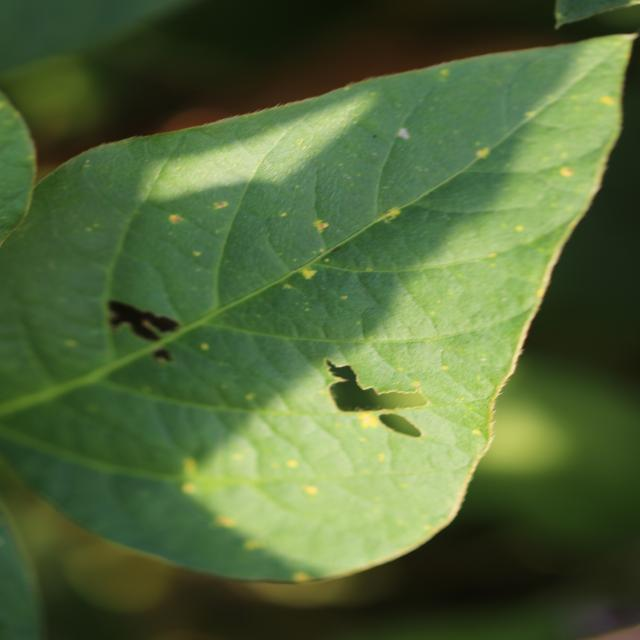Soybean: (0, 30, 640, 640)
downey_mildew: (132, 170, 332, 280), (215, 444, 380, 538), (491, 268, 554, 449), (405, 354, 507, 442), (177, 454, 285, 520), (431, 273, 521, 326), (378, 428, 473, 478), (215, 100, 291, 126), (358, 413, 379, 429), (183, 458, 197, 475), (385, 207, 401, 219), (598, 95, 615, 106), (476, 148, 491, 159), (181, 482, 196, 493), (169, 214, 184, 224), (558, 167, 573, 177), (397, 128, 410, 139), (555, 12, 566, 23), (213, 201, 228, 209), (286, 459, 299, 468), (64, 339, 77, 347), (524, 110, 536, 118), (232, 453, 244, 461), (86, 404, 98, 412), (245, 392, 255, 401), (439, 69, 450, 77), (377, 453, 386, 462), (514, 225, 525, 232), (536, 289, 544, 297), (200, 343, 209, 350), (560, 151, 569, 158), (344, 173, 354, 179), (192, 251, 201, 257), (412, 381, 420, 387), (279, 212, 288, 217), (91, 223, 100, 228), (1, 215, 8, 221), (441, 365, 449, 370), (85, 227, 93, 232), (83, 160, 91, 165), (370, 91, 378, 96), (480, 357, 488, 362), (371, 134, 377, 139), (397, 367, 404, 371), (476, 376, 482, 380), (372, 152, 378, 156)
